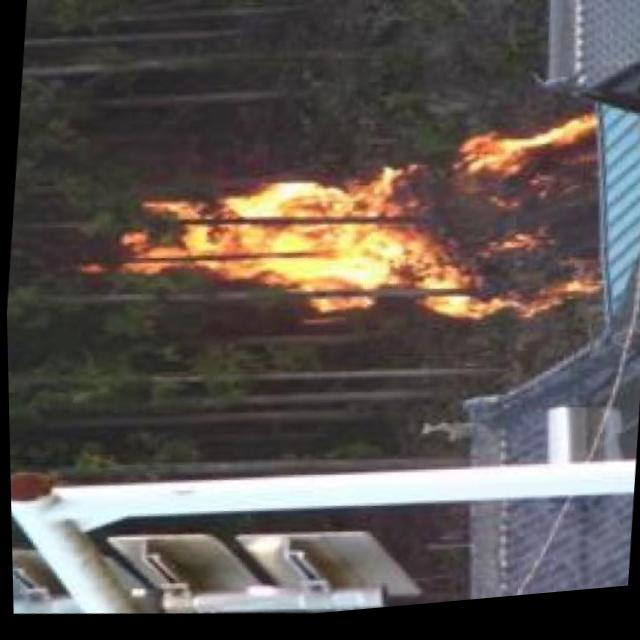Fire: (95, 87, 614, 358)
